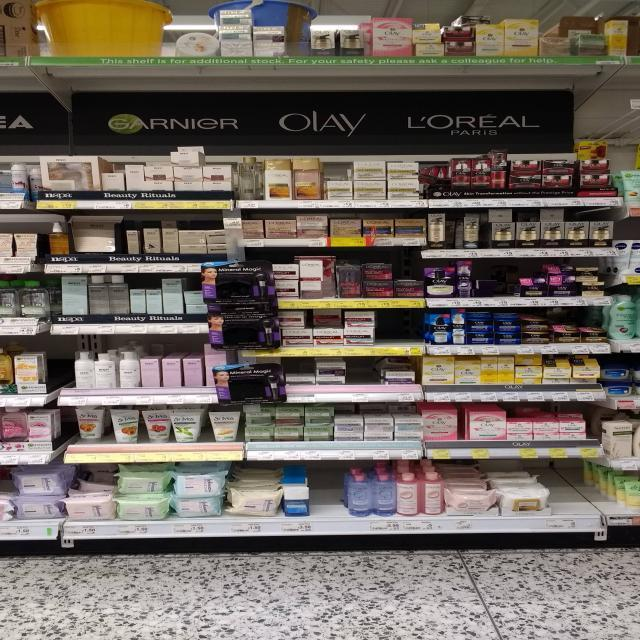empty: (551, 463, 590, 528), (311, 466, 344, 532), (379, 310, 422, 356), (347, 358, 373, 402)
